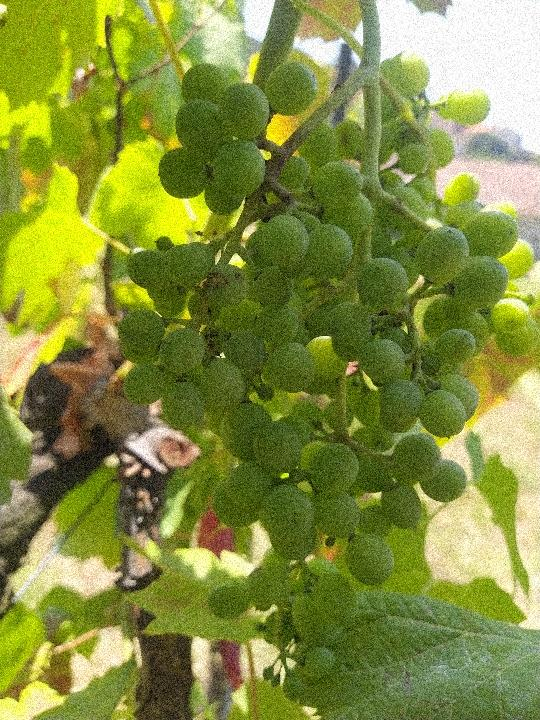grape: (112, 49, 536, 702)
